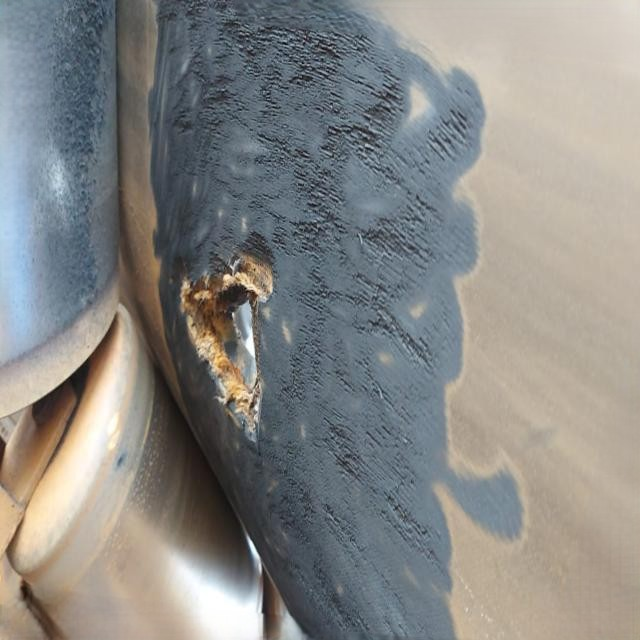Hole: (170, 232, 282, 448)
Wear: (150, 0, 482, 640)
